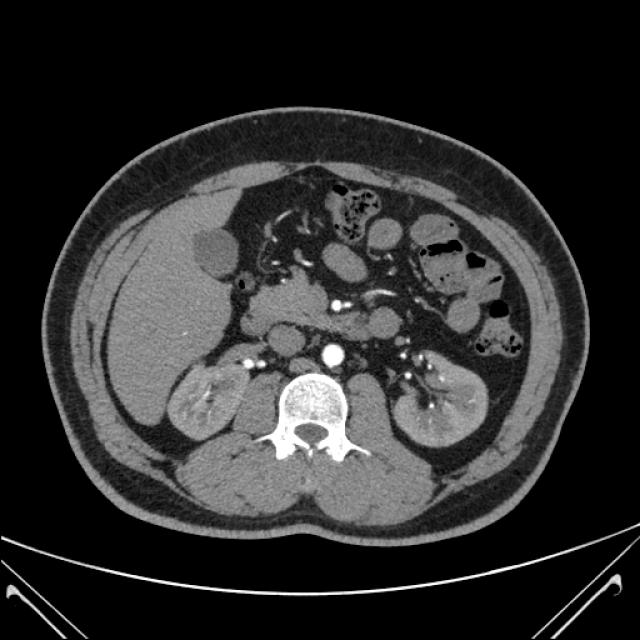Kidney: (32, 98, 630, 556)
